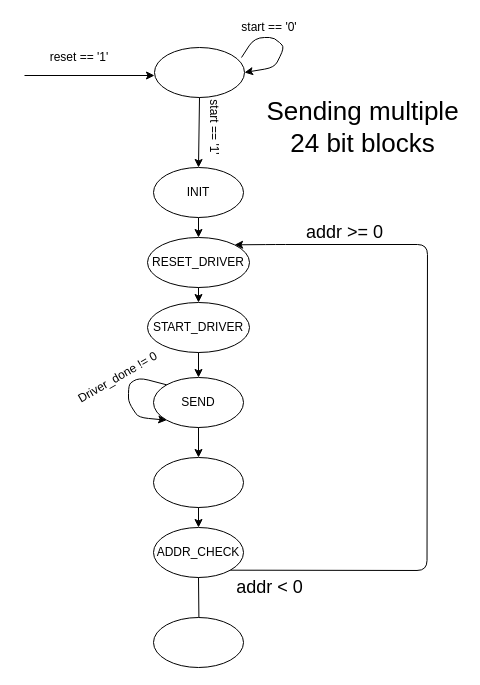
The diagram is 480 pixels wide and 685 high, and some of its shapes have lost their labels. The box of each missing label's shape, as (x1, y1, x2, y2) in pixels:
ADDR_DECR: (152, 456, 244, 508)
FINISHED: (152, 616, 244, 668)
Ready: (154, 46, 244, 98)
